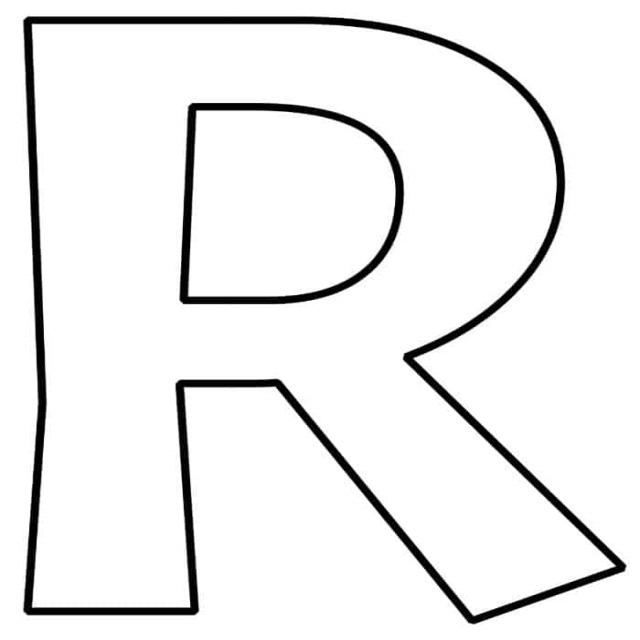R: (10, 1, 640, 640)
